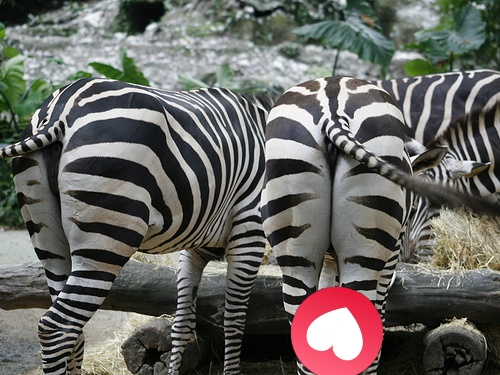love: (291, 287, 383, 375)
